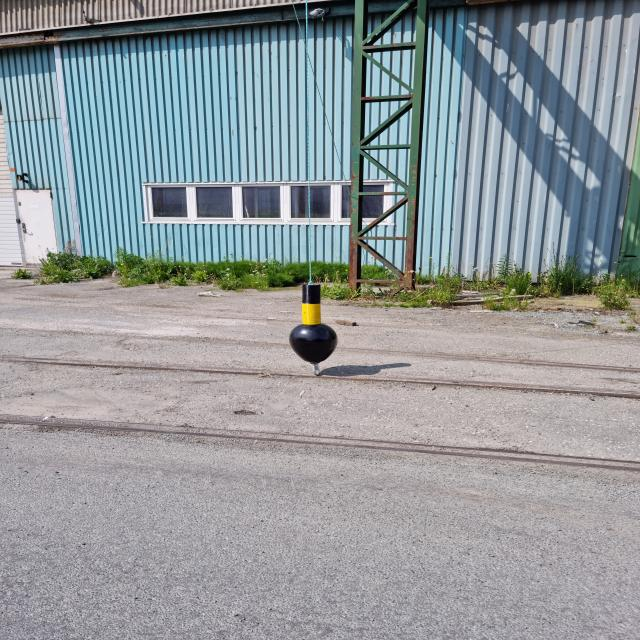east: (290, 284, 338, 363)
